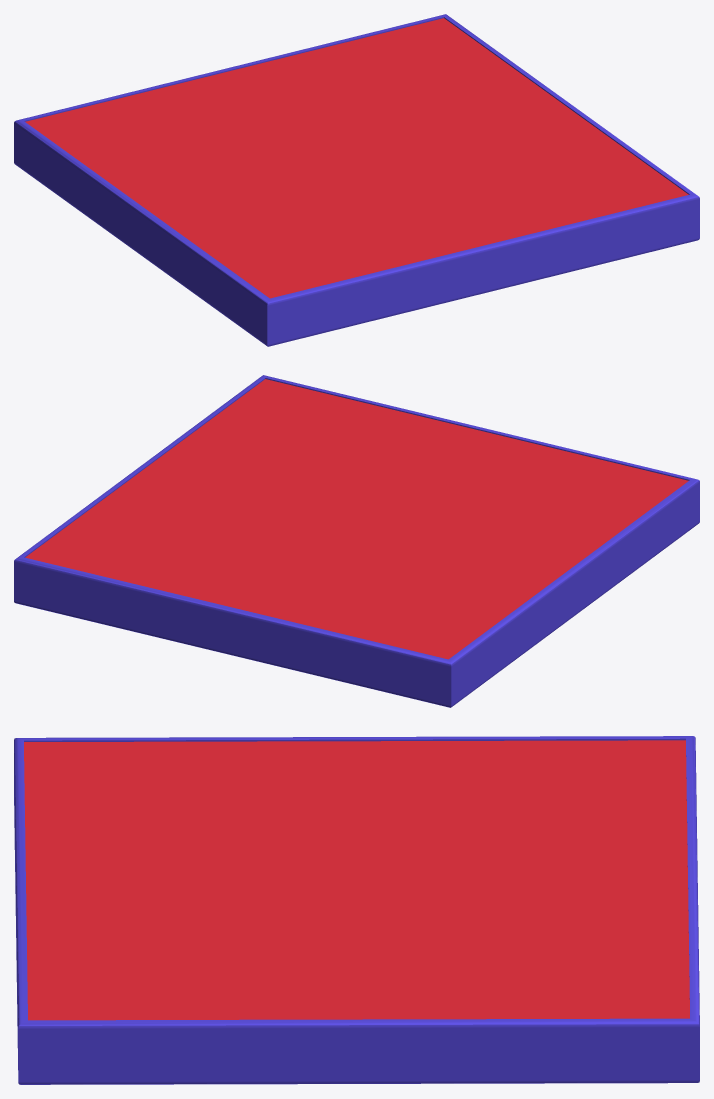
File: Plateforme_01.fbx
3 renders of one model, top to bottom at view 1: azimuth 30°, elevation 25°; view 2: azimuth 150°, elevation 25°; view 3: azimuth 270°, elevation 25°, orthographic. The views are drawn at different scales.
Visible parts, largest first — view 1: Cube; view 2: Cube; view 3: Cube.
Boxes of the visible parts, left/top/right/bottom form: Cube: left=14, top=14, right=699, bottom=346; Cube: left=14, top=375, right=699, bottom=707; Cube: left=14, top=736, right=699, bottom=1084.
Bounding box in the file's own units: 101 × 10 × 101.
